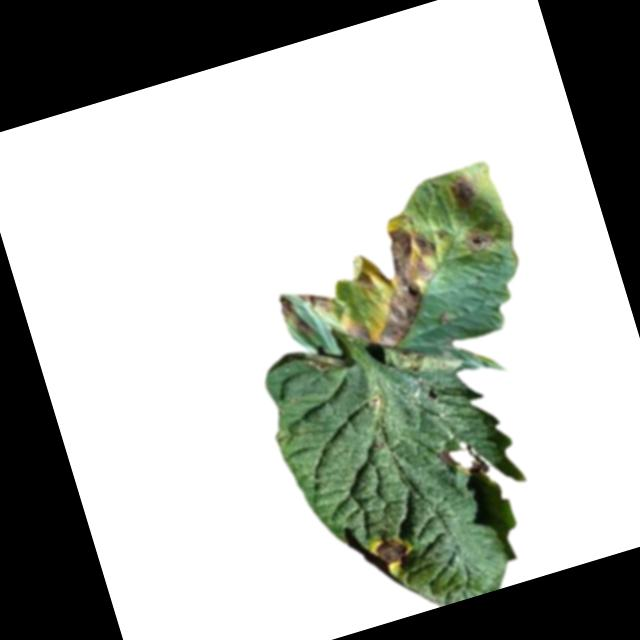Early_blight: (265, 207, 463, 377), (436, 435, 490, 484), (443, 170, 483, 215), (371, 528, 414, 568), (460, 219, 498, 256)
